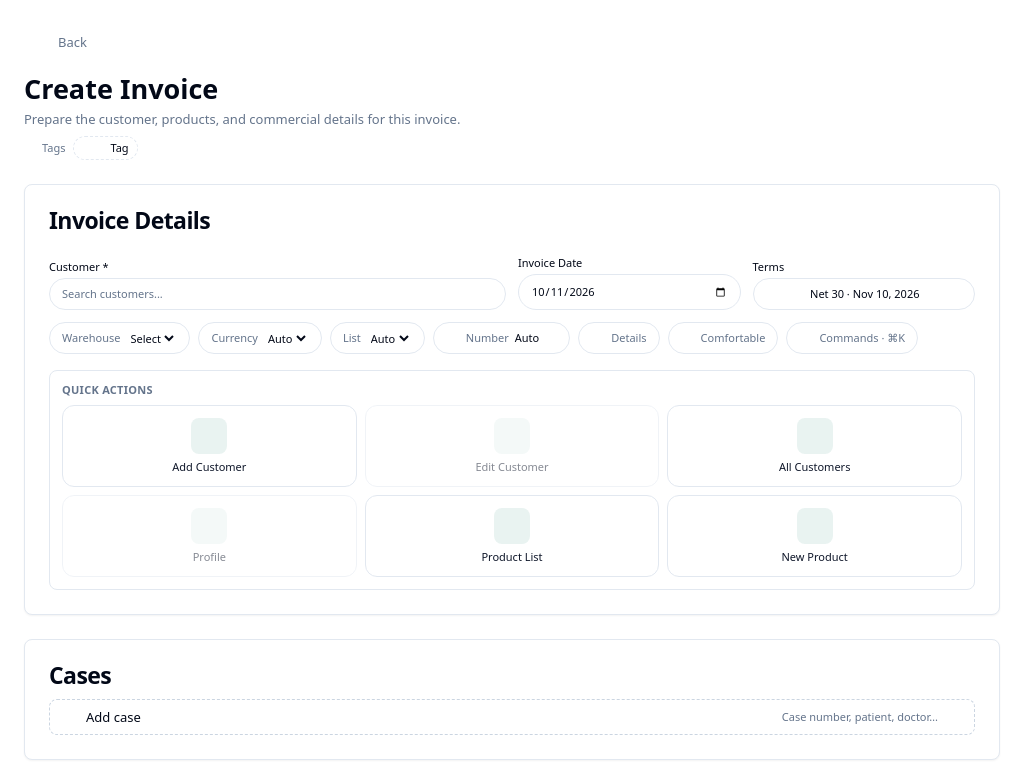
it: CreateInvoicePage sales settings (#315) › keeps customer terms when the settings response arrives after the customer pick
The image size is (1024, 768).
Step 1. Click the dropdown labelled "Search customers..." → [112, 294], box [49,278,506,310]
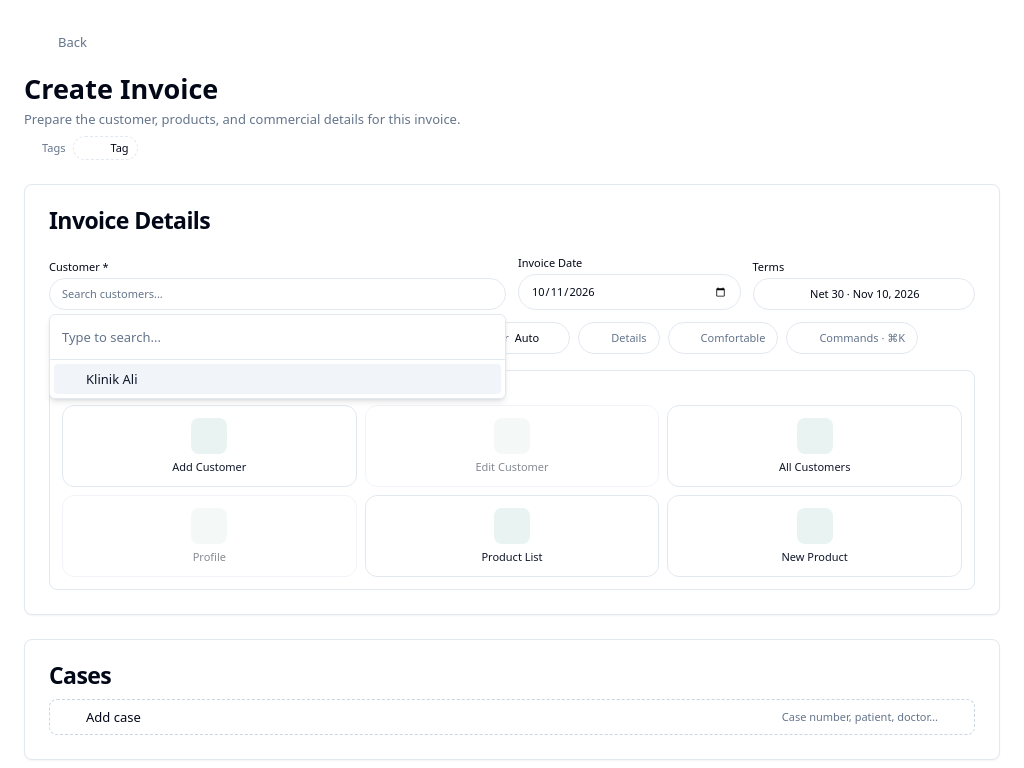
Step 2. Click the option "Klinik Ali" → [112, 379], box [54,364,501,394]
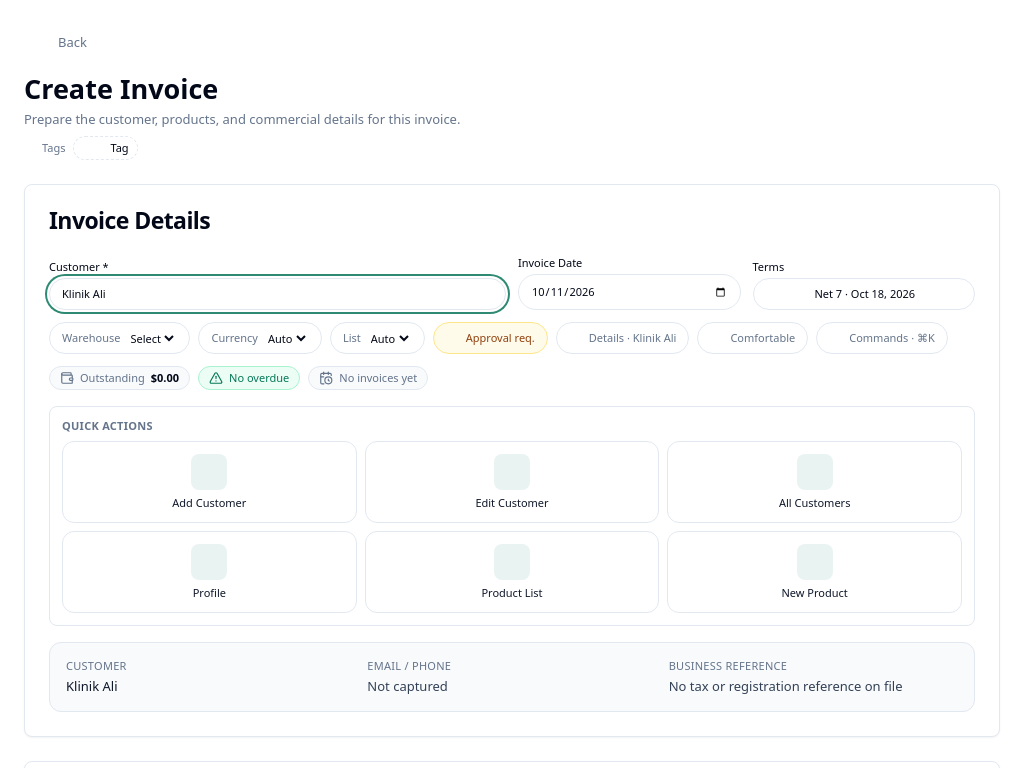
Result: the text "Approval req." is shown at [466,331,535,345]
Result: the button titled "Payment terms and due date" shows "Net 7" at [752,278,975,310]
